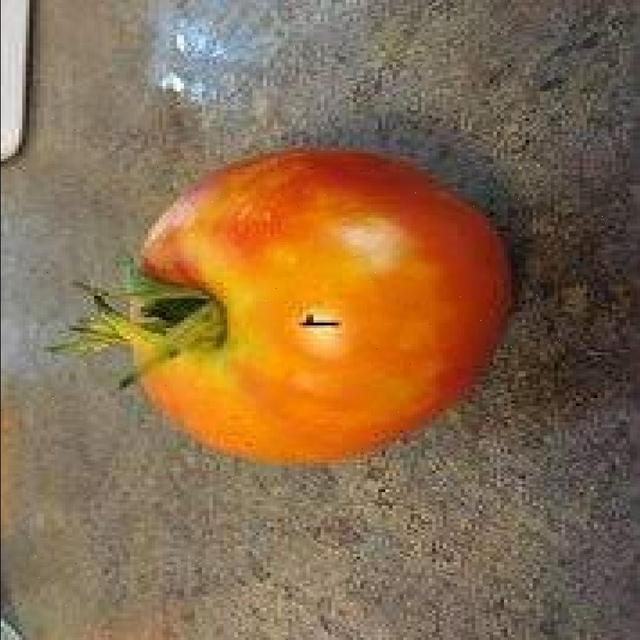Spotted wilt Virus Fruit: (86, 100, 345, 310)
